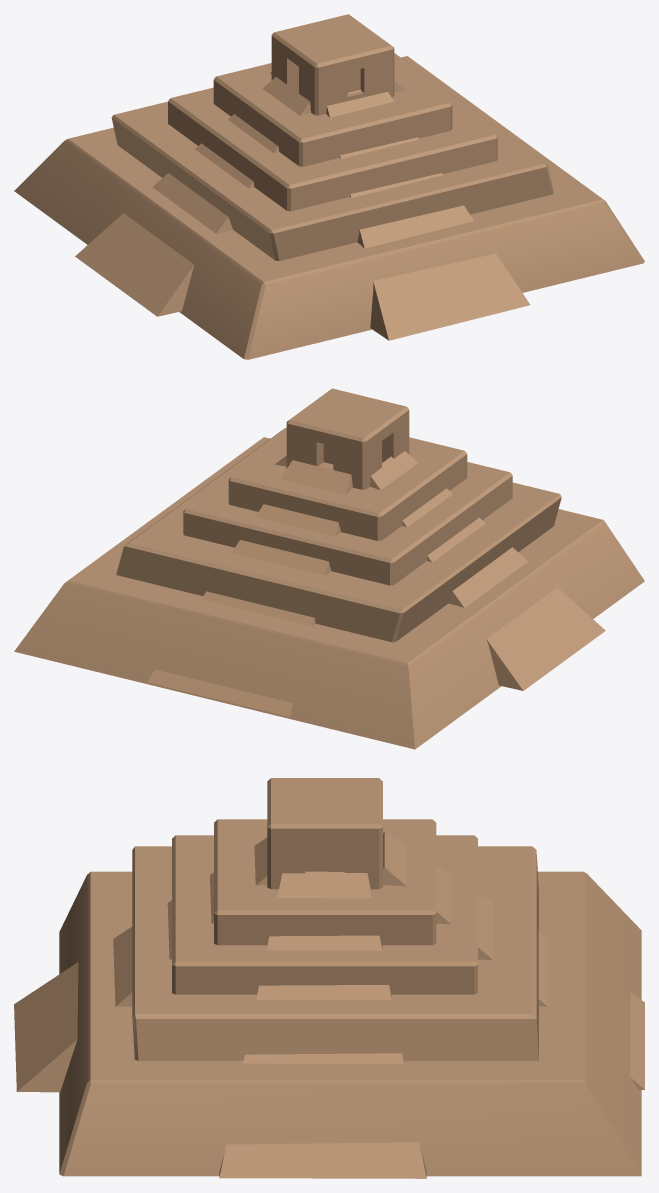
The model's file is piramid1.glb.
3 renders of one model, top to bottom at view 1: azimuth 30°, elevation 25°; view 2: azimuth 150°, elevation 25°; view 3: azimuth 270°, elevation 25°, orthographic. The views are drawn at different scales.
Visible parts, largest first — view 1: פןרשצןג; view 2: פןרשצןג; view 3: פןרשצןג.
Boxes of the visible parts, x1=… form: פןרשצןג: x1=14, y1=14, x2=644, y2=359; פןרשצןג: x1=14, y1=388, x2=644, y2=749; פןרשצןג: x1=14, y1=778, x2=644, y2=1178.
Size of the model in its own units: 2.53 by 1.09 by 2.52.
Materials: 1 (1 with a texture image).
